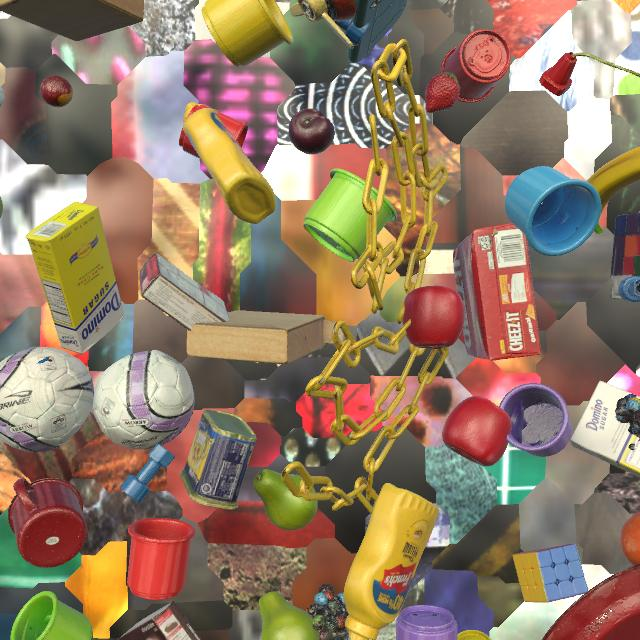ycb_003_cracker_box: (453, 223, 541, 361)
ycb_004_sugar_box: (26, 202, 124, 354), (570, 381, 640, 478)
ycb_006_mustard_bottle: (344, 483, 439, 640), (183, 102, 276, 224)
ycb_008_pudding_box: (140, 253, 229, 331), (117, 601, 202, 640)
ycb_010_potted_meat_can: (179, 410, 257, 510)
ycb_011_banana: (586, 146, 640, 234)
ycb_012_strawberry: (425, 73, 460, 113)
ycb_013_apple: (442, 396, 512, 467), (402, 286, 465, 349)
ycb_016_pear: (253, 469, 318, 531), (259, 591, 320, 640), (0, 197, 3, 218)
ycb_017_orange: (620, 512, 640, 565)
ycb_018_plum: (289, 108, 335, 154)
